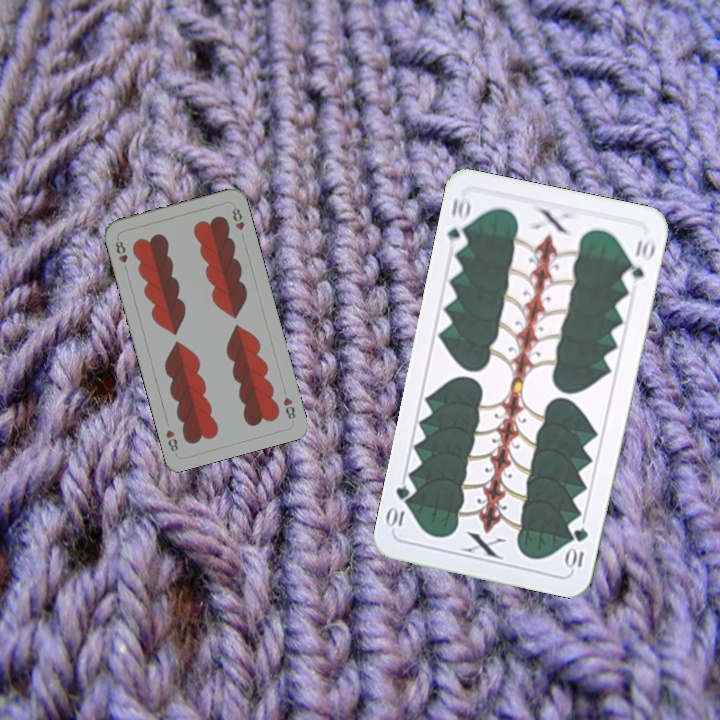G10: (443, 192, 474, 253), (563, 524, 591, 572)
H8: (279, 393, 298, 424), (111, 237, 130, 266)
